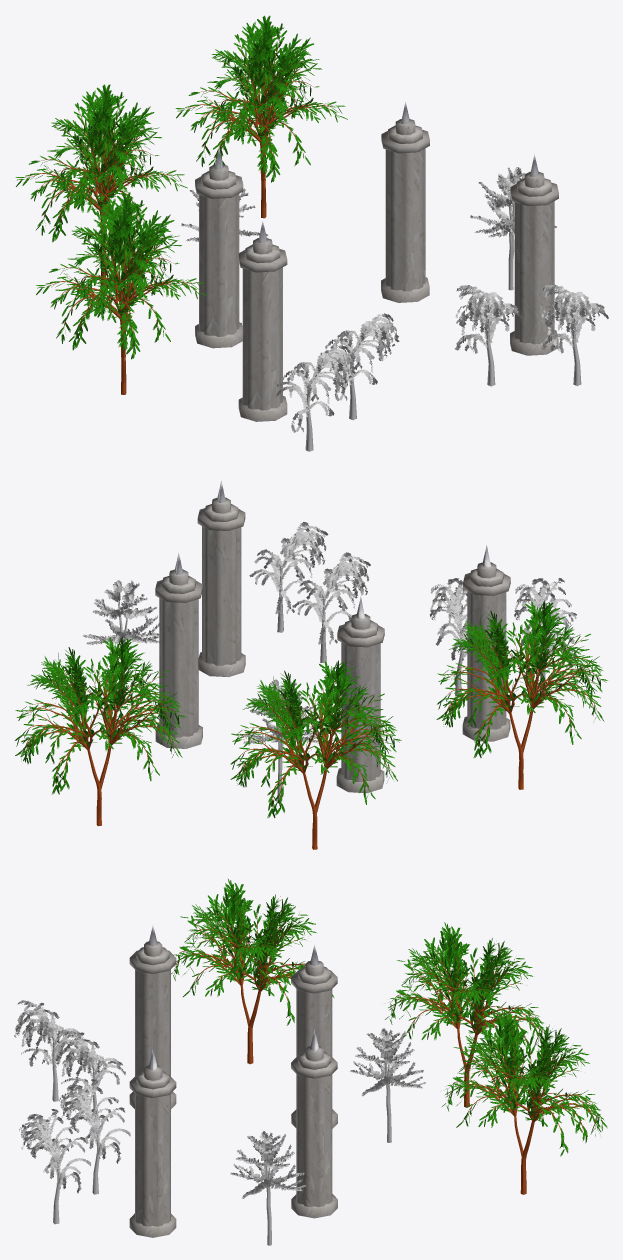
3 renders of one model, top to bottom at view 1: azimuth 30°, elevation 25°; view 2: azimuth 150°, elevation 25°; view 3: azimuth 270°, elevation 25°, orthographic. The views are drawn at different scales.
Visible parts, largest first — view 1: Pilar1, Tree1, Tree1.001, Tree1.002, tree.002, tree.001, tree.003, tree, tree.005; view 2: Pilar1, Tree1.001, Tree1, Tree1.002, tree.003, tree.001, tree.005, tree, tree.002, tree.004; view 3: Pilar1, Tree1.001, Tree1.002, Tree1, tree.003, tree.005, tree.004, tree.001, tree.002, tree.
Boxes of the visible parts, x1,y1,x2,y2 form: Pilar1: (195,101,558,421); Tree1: (36,192,207,394); Tree1.001: (175,15,347,218); Tree1.002: (15,84,187,285); tree.002: (276,345,355,451); tree.001: (454,285,522,386); tree.003: (541,284,608,385); tree: (320,313,399,419); tree.005: (470,167,556,290); Pilar1: (155,480,510,793); Tree1.001: (15,636,186,825); Tree1: (436,600,607,789); Tree1.002: (230,660,401,849); tree.003: (249,522,328,632); tree.001: (292,552,370,663); tree.005: (82,580,159,701); tree: (430,578,467,695); tree.002: (514,578,576,692); tree.004: (240,679,321,800); Pilar1: (129,925,337,1237); Tree1.001: (442,1009,607,1194); Tree1.002: (385,922,550,1107); Tree1: (171,879,334,1064); tree.003: (19,1109,91,1224); tree.005: (230,1130,305,1245); tree.004: (349,1028,425,1142); tree.001: (59,1079,130,1194); tree.002: (14,1000,82,1101); tree: (54,1029,125,1122).
Size of what is drawn, in the model's own units: 1846 by 664 by 1997.
